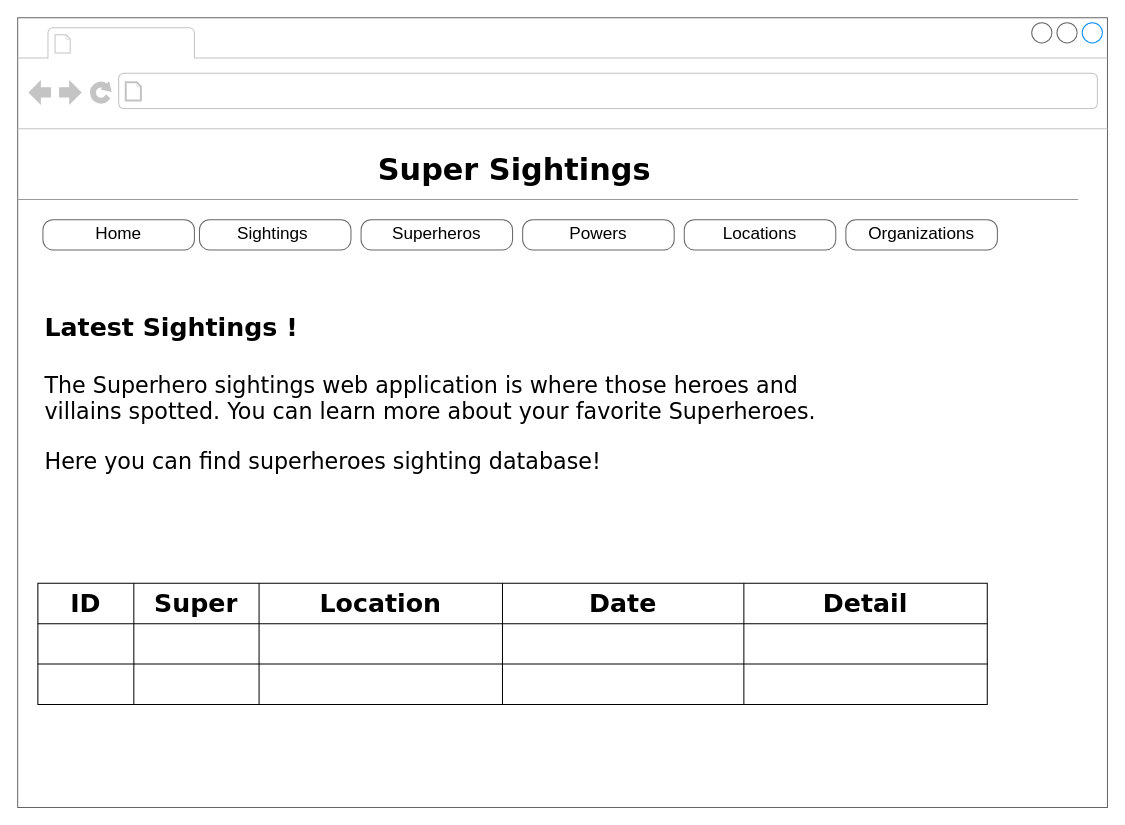
This 1125x825 diagram has some shape labels left out. The shapes that lost their labels are listed below. From the top down, each one's centre as x and y in pixels, then its label:
At (133,42): "Page 1".
At (274,91): "https://localhost:8080/home.html".
